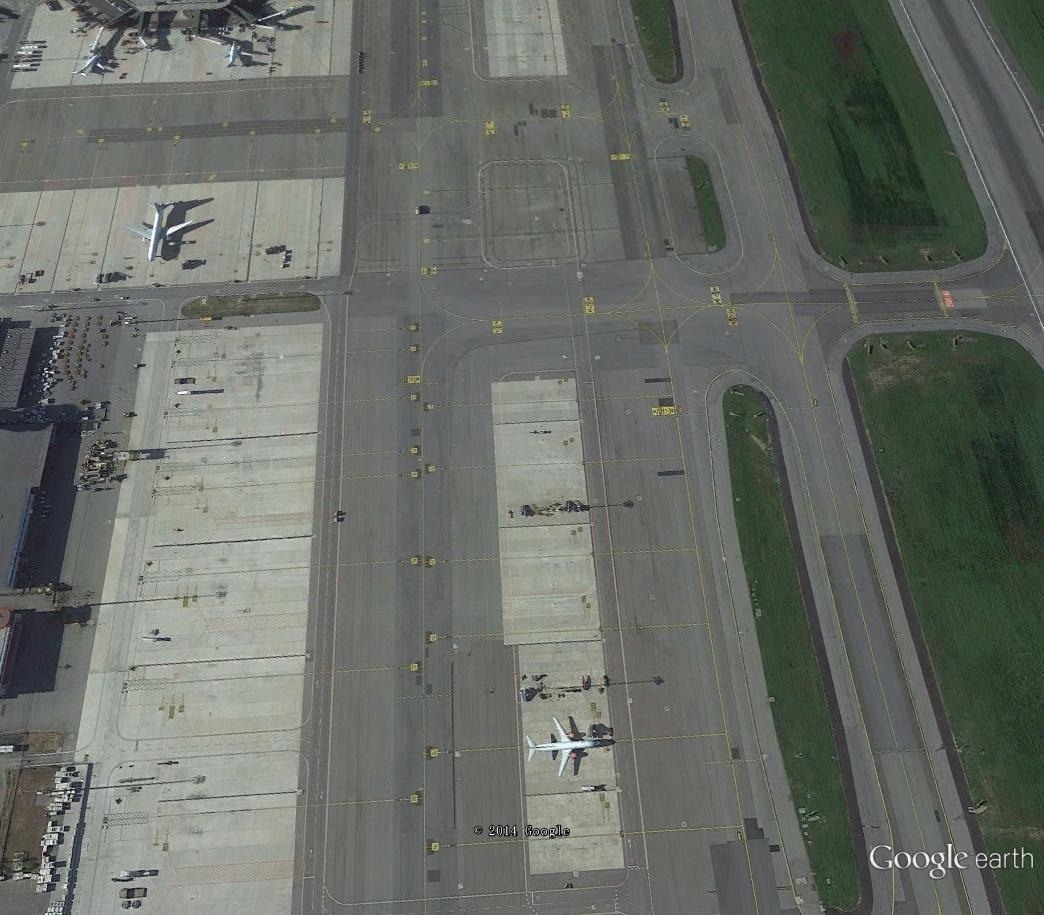aircraft: (520, 709, 621, 781), (120, 196, 196, 267), (69, 45, 123, 82), (220, 37, 268, 72)
